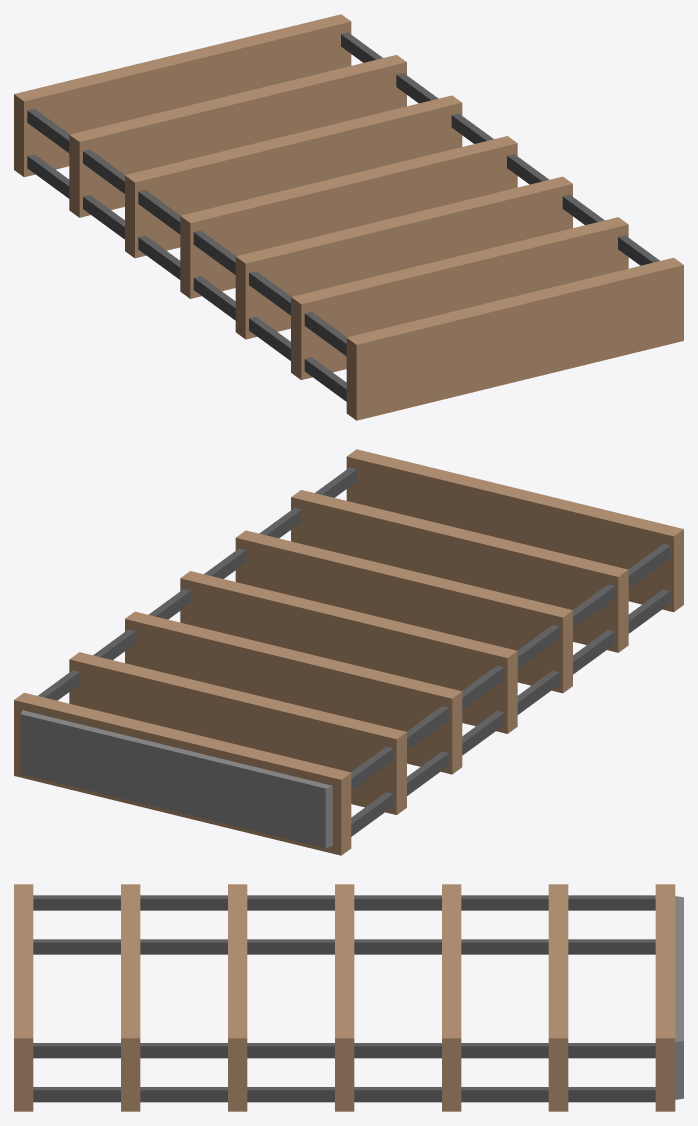
Rendered from Modern_Shelves_3.obj.
3 renders of one model, top to bottom at view 1: azimuth 30°, elevation 25°; view 2: azimuth 150°, elevation 25°; view 3: azimuth 270°, elevation 25°, orthographic. The views are drawn at different scales.
Visible parts, largest first — view 1: Modern_Shelves_3; view 2: Modern_Shelves_3; view 3: Modern_Shelves_3.
Boxes of the visible parts, x1=… form: Modern_Shelves_3: x1=14, y1=14, x2=683, y2=420; Modern_Shelves_3: x1=14, y1=449, x2=683, y2=855; Modern_Shelves_3: x1=14, y1=884, x2=683, y2=1111.
Size of the model in its own units: 1.24 by 0.2757 by 2.29.
